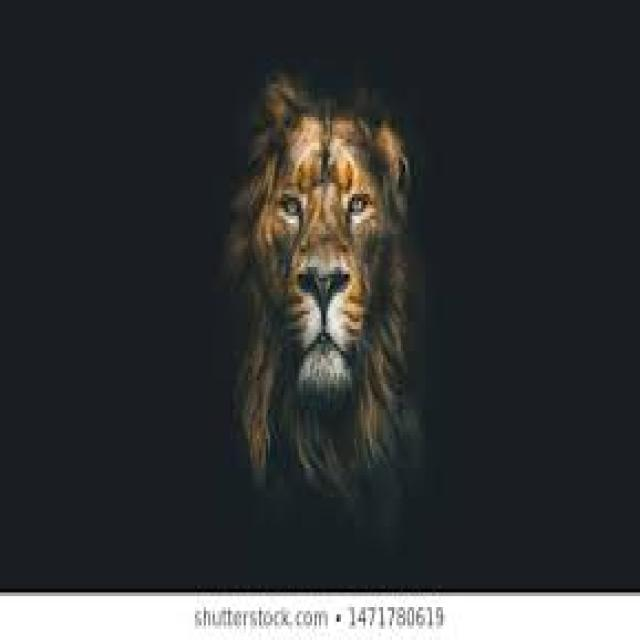Lion: (209, 62, 426, 506)
